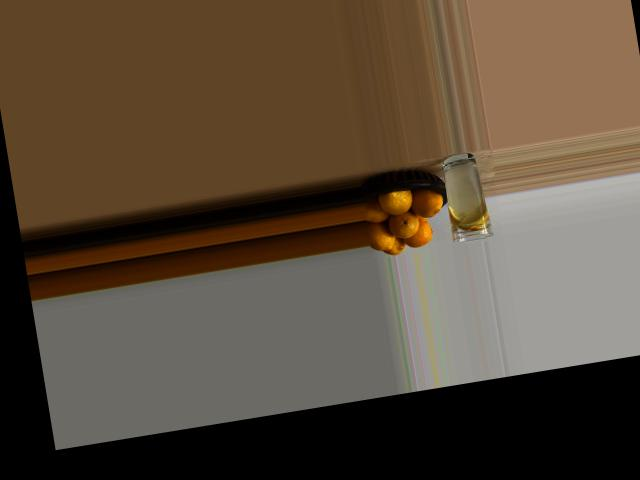lemon: (365, 216, 400, 256)
